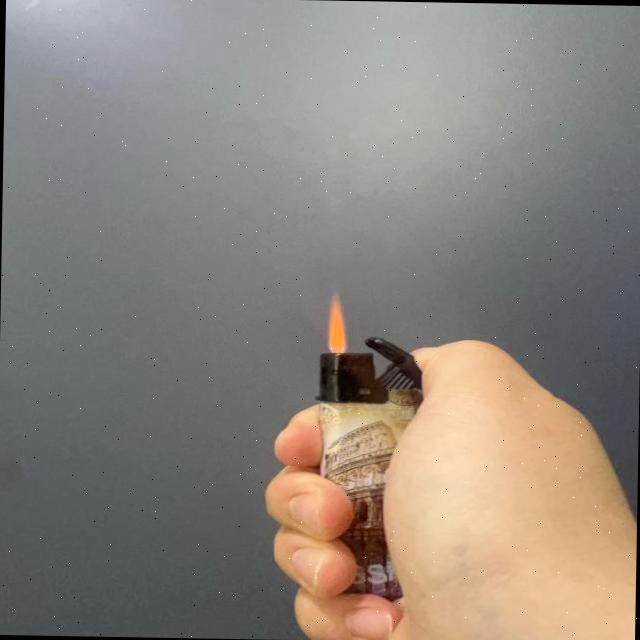fire: (323, 286, 349, 354)
